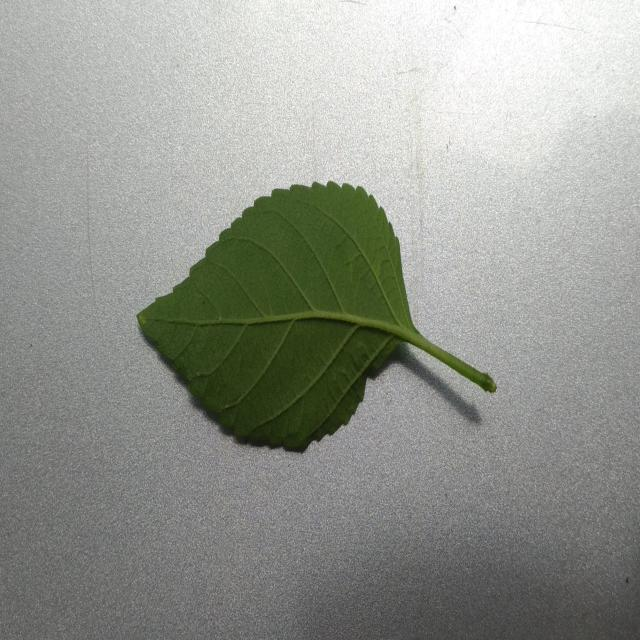Lantana: (138, 182, 496, 449)
